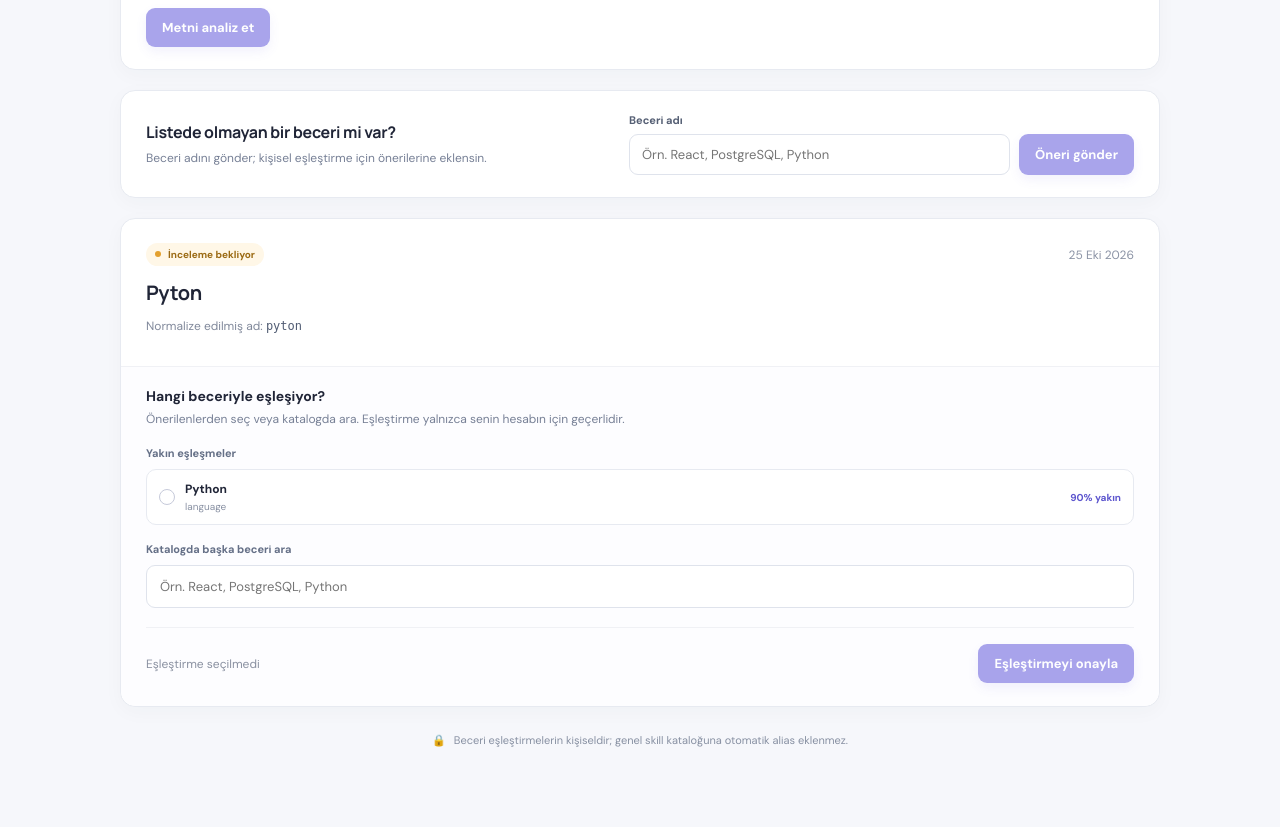
Test: skill suggestion input › shows an error and retains the suggestion if mapping response status is not accepted
The width and height of the screenshot is (1280, 827).
(page scrolled)
Click the button "Python language 90% yakın" at {"x": 206, "y": 489}, box [146,469,1134,525]
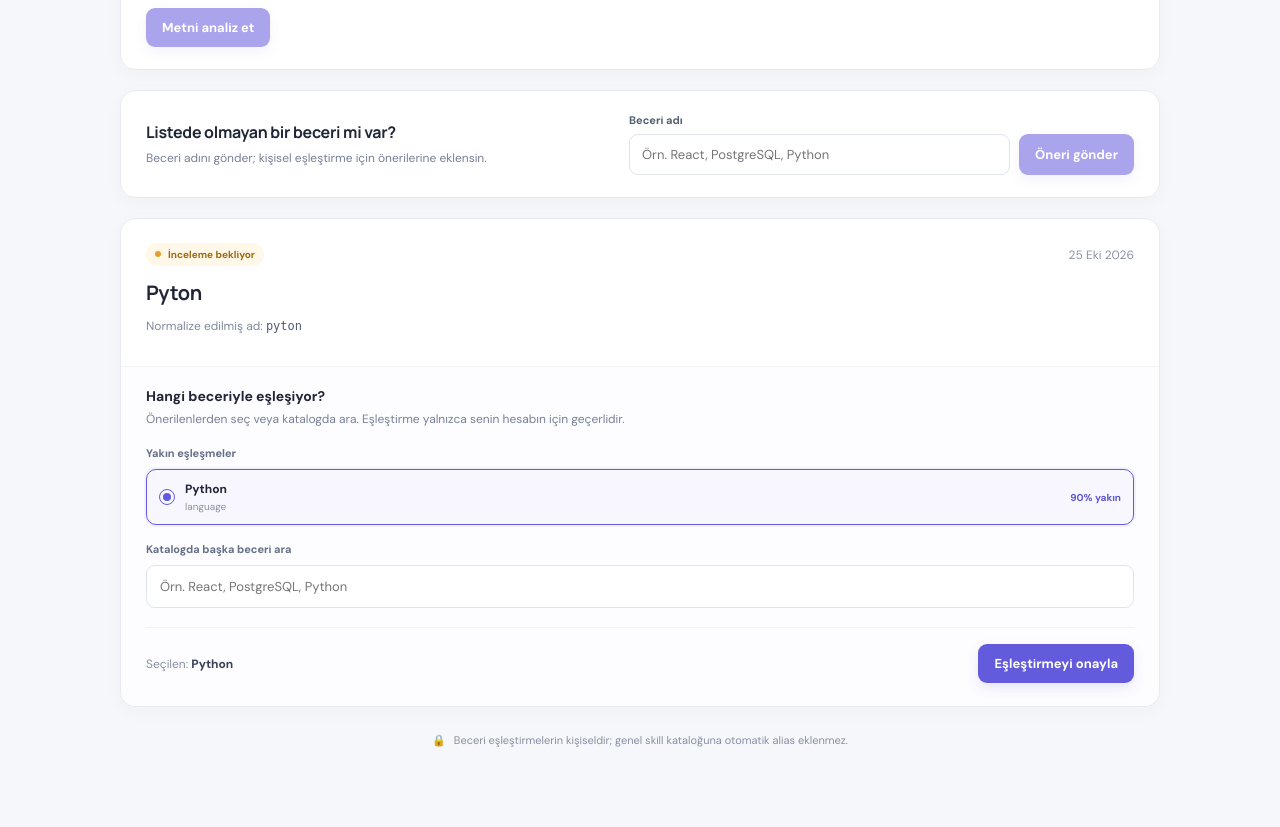
Click the button "Eşleştirmeyi onayla" at {"x": 1056, "y": 664}, box [978,644,1134,683]
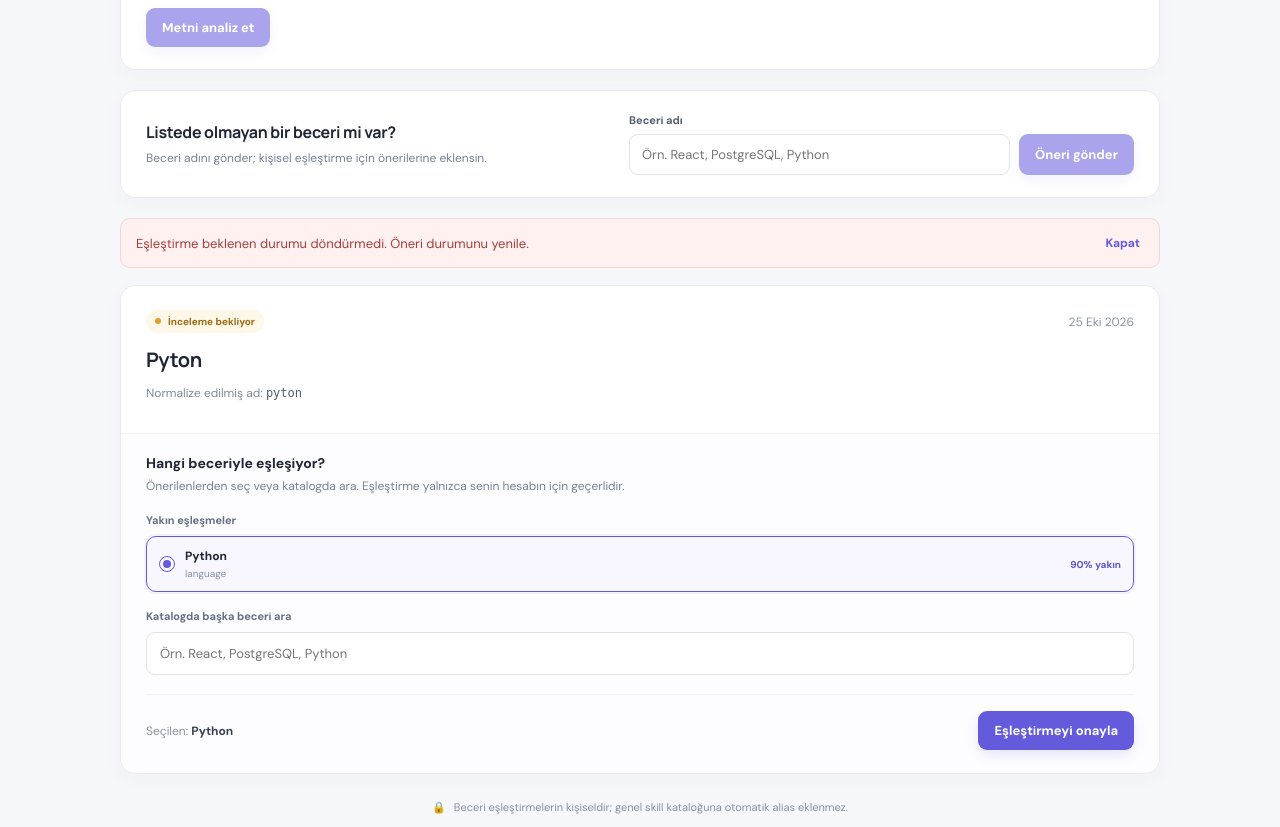
Expected: the heading "Pyton" is shown, [146,346,202,373]
Expected: the message shows "beklenen durumu döndürmedi", [136,235,529,252]
